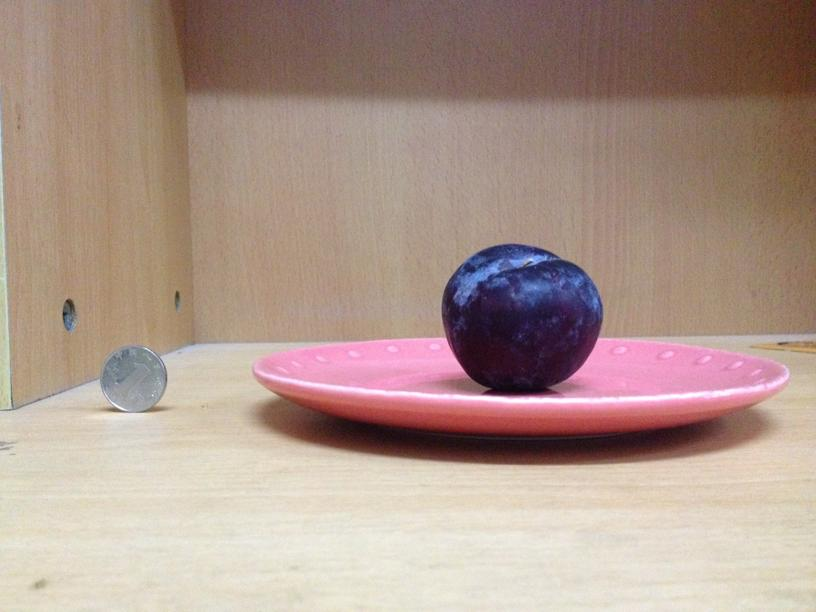coin: (98, 346, 166, 412)
plum: (440, 246, 607, 391)
